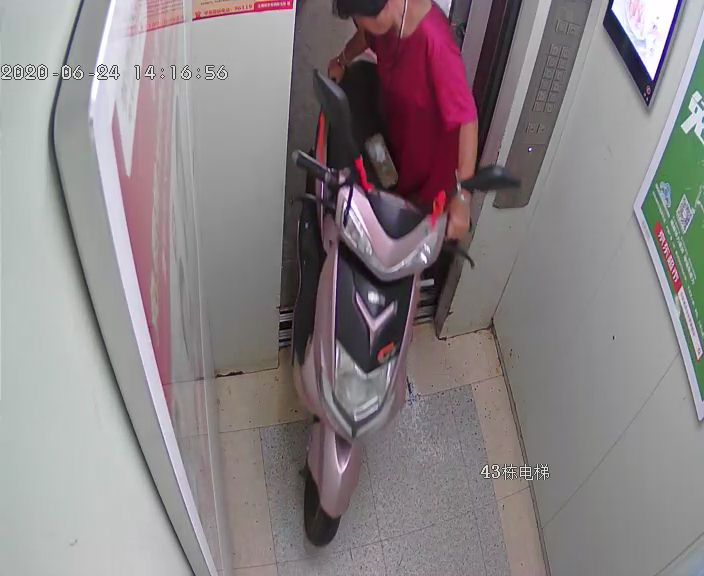Electric-bicycle: (297, 57, 515, 534)
